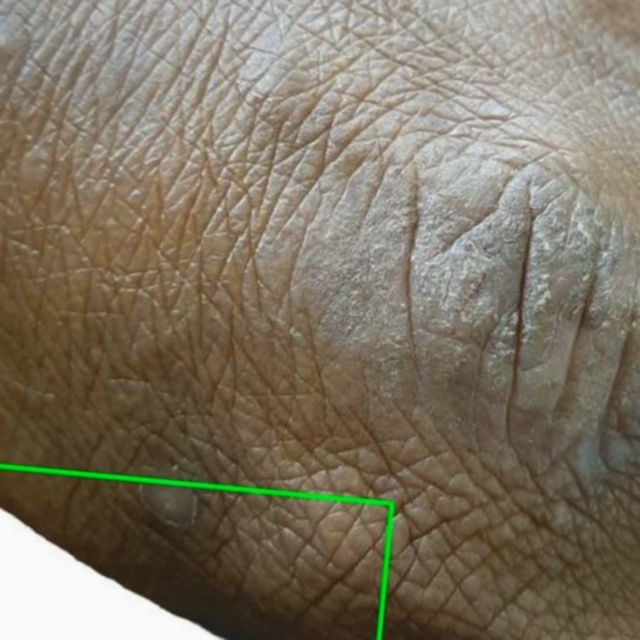Eczema: (0, 465, 392, 639)
